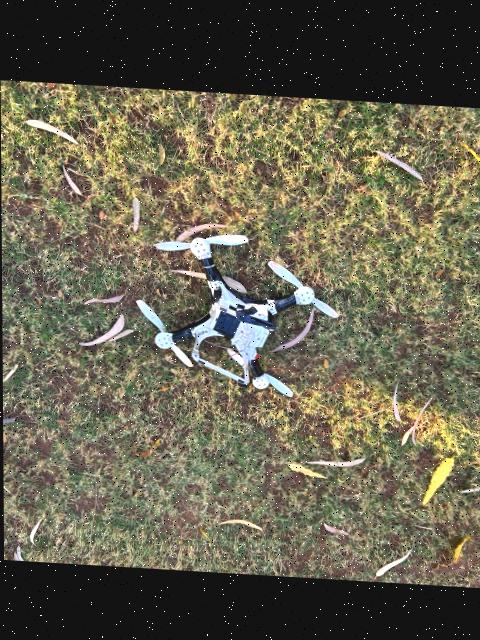drone: (138, 216, 321, 401)
